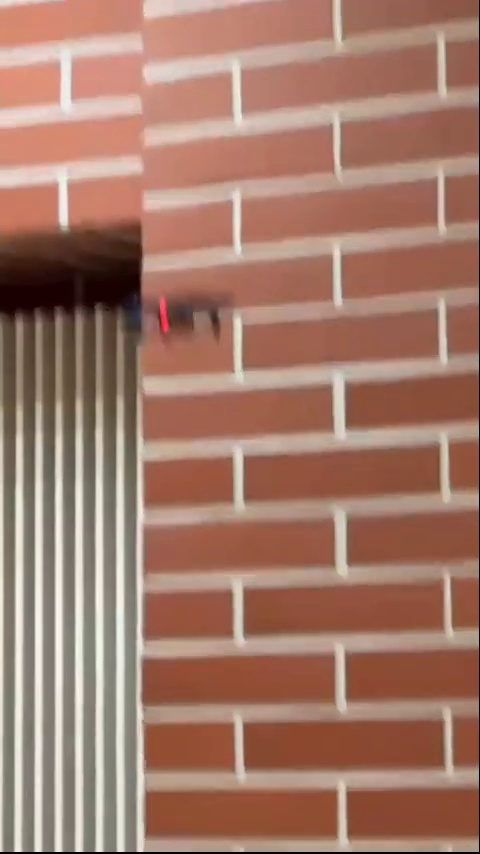drone: (123, 297, 244, 344)
